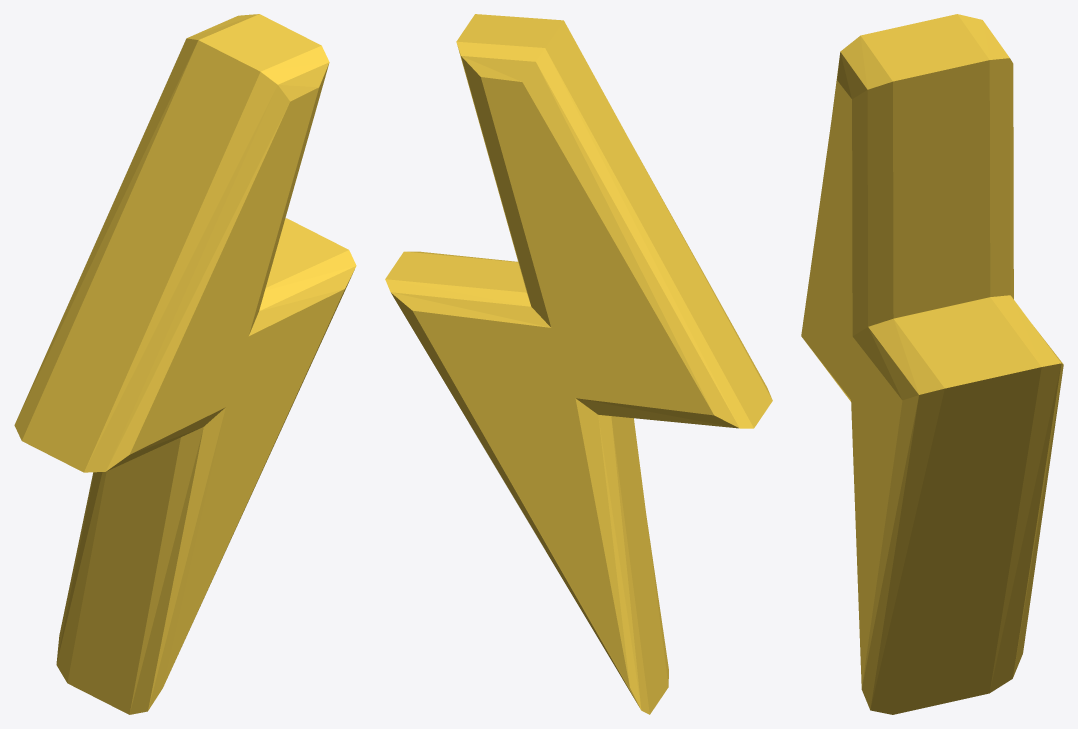
File: Bolt3D.glb
3 renders of one model, left to right at view 1: azimuth 30°, elevation 25°; view 2: azimuth 150°, elevation 25°; view 3: azimuth 270°, elevation 25°, orthographic. The views are drawn at different scales.
Visible parts, largest first — view 1: Body; view 2: Body; view 3: Body.
Part boxes in pixels (x1,y1,x2,y2): Body: [14, 14, 356, 714]; Body: [385, 14, 772, 714]; Body: [801, 14, 1063, 714].
Bounding box in the file's own units: 1.38 × 2.46 × 0.7738.
1 material, 1 textured.
